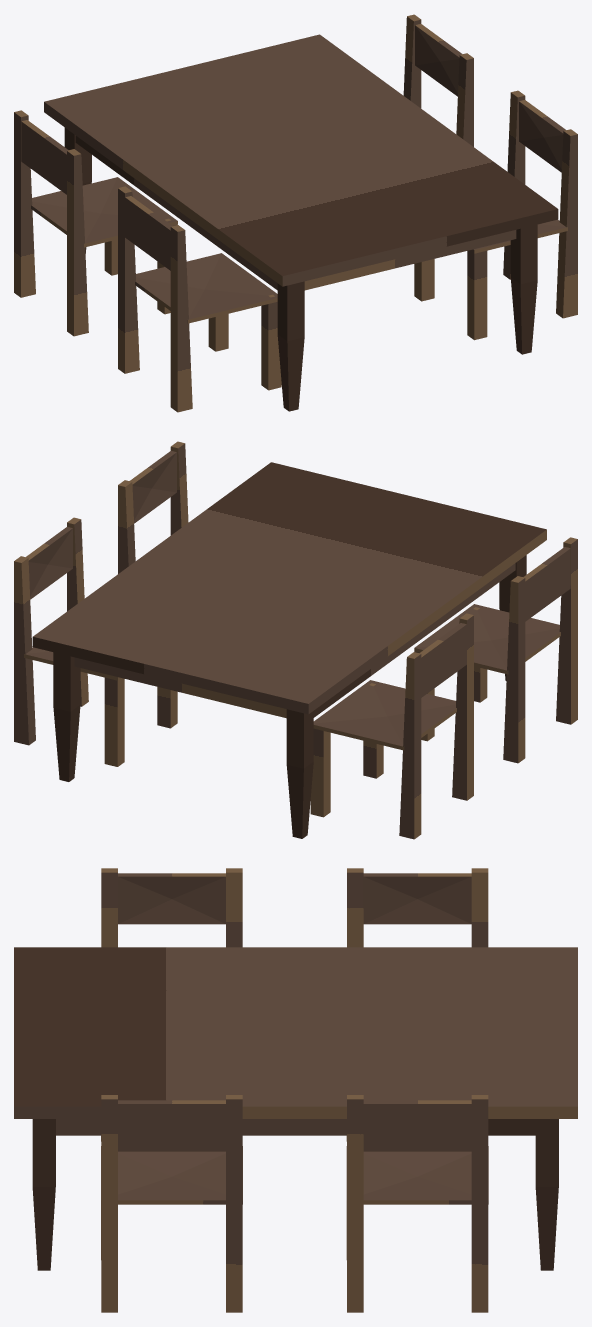
The model's file is Accesories_Dinner_Table_B.glb.
3 views of the same model, one above another, from view 1: azimuth 30°, elevation 25°; view 2: azimuth 150°, elevation 25°; view 3: azimuth 270°, elevation 25° (orthographic). The views are drawn at different scales.
Visible parts, largest first — view 1: Accesories_Dinner_Table_B; view 2: Accesories_Dinner_Table_B; view 3: Accesories_Dinner_Table_B.
Part boxes in pixels (left/top/right/bottom): Accesories_Dinner_Table_B: left=14, top=14, right=577, bottom=412; Accesories_Dinner_Table_B: left=14, top=441, right=577, bottom=839; Accesories_Dinner_Table_B: left=14, top=868, right=577, bottom=1312.
Size of the model in its own units: 1.78 by 0.7693 by 1.84.
1 material, 1 textured.
